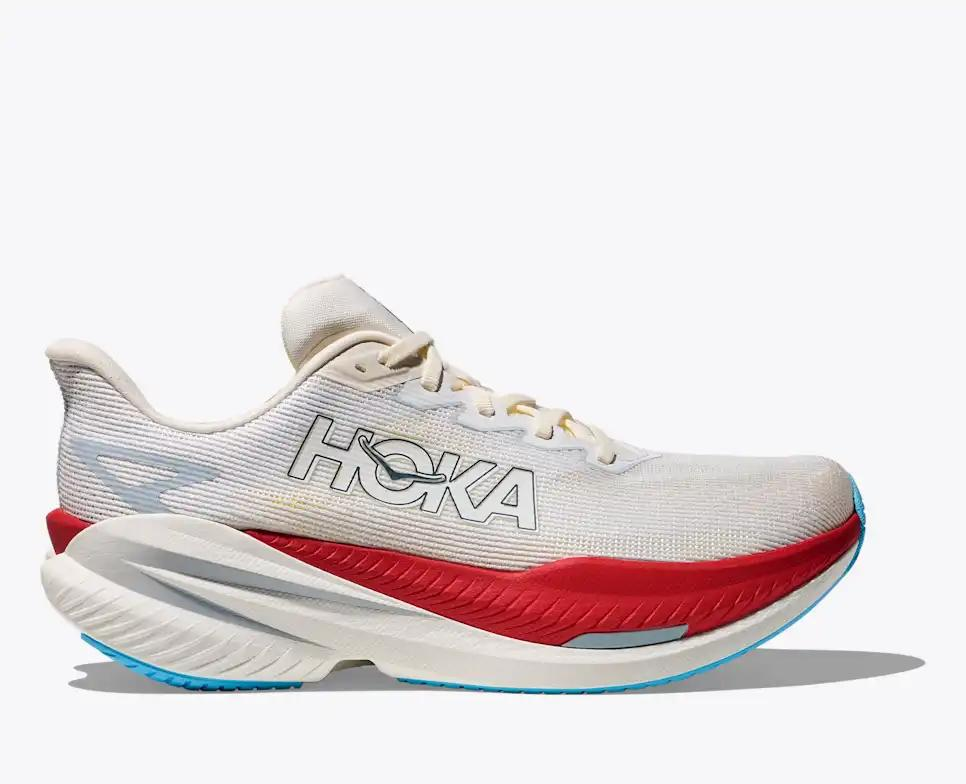hoka logo: (287, 411, 539, 532)
